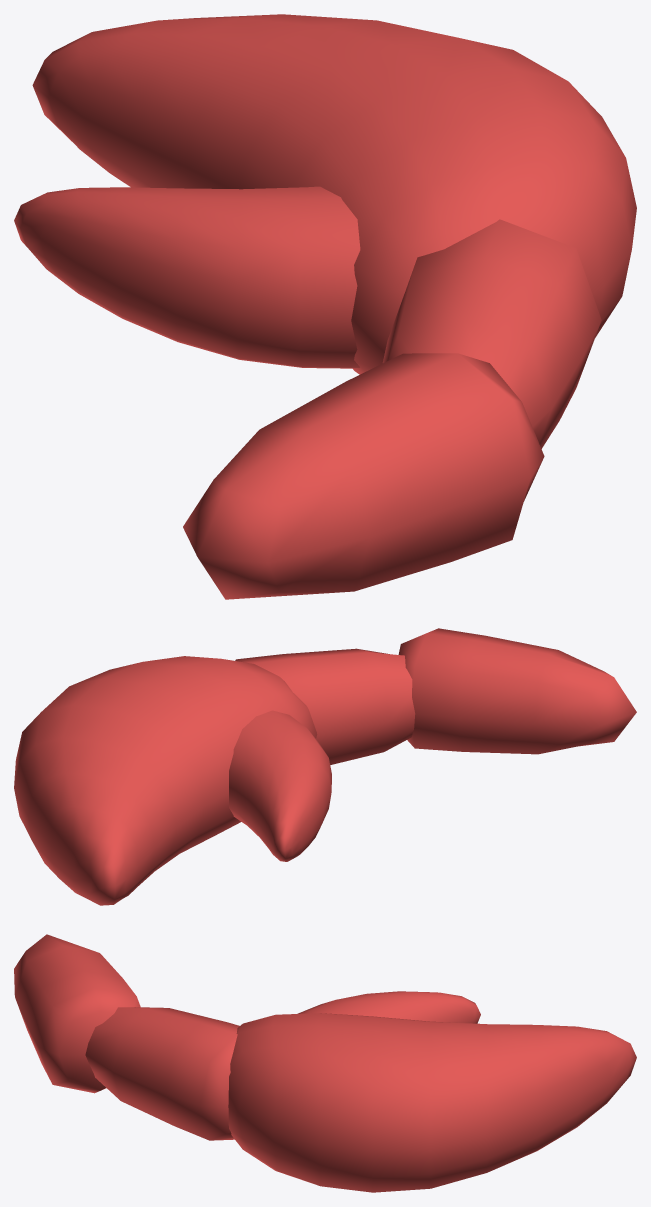
File: Lobster_2_Claw_1.fbx
3 renders of one model, top to bottom at view 1: azimuth 30°, elevation 25°; view 2: azimuth 150°, elevation 25°; view 3: azimuth 270°, elevation 25°, orthographic. The views are drawn at different scales.
Parts seen in each view (by area): view 1: Lobster_2_Claw_1; view 2: Lobster_2_Claw_1; view 3: Lobster_2_Claw_1.
Part boxes in pixels (x1=…): Lobster_2_Claw_1: x1=14, y1=14, x2=636, y2=599; Lobster_2_Claw_1: x1=14, y1=628, x2=636, y2=905; Lobster_2_Claw_1: x1=14, y1=934, x2=636, y2=1192.
Size of the model in its own units: 17.33 by 6.11 by 23.35.
